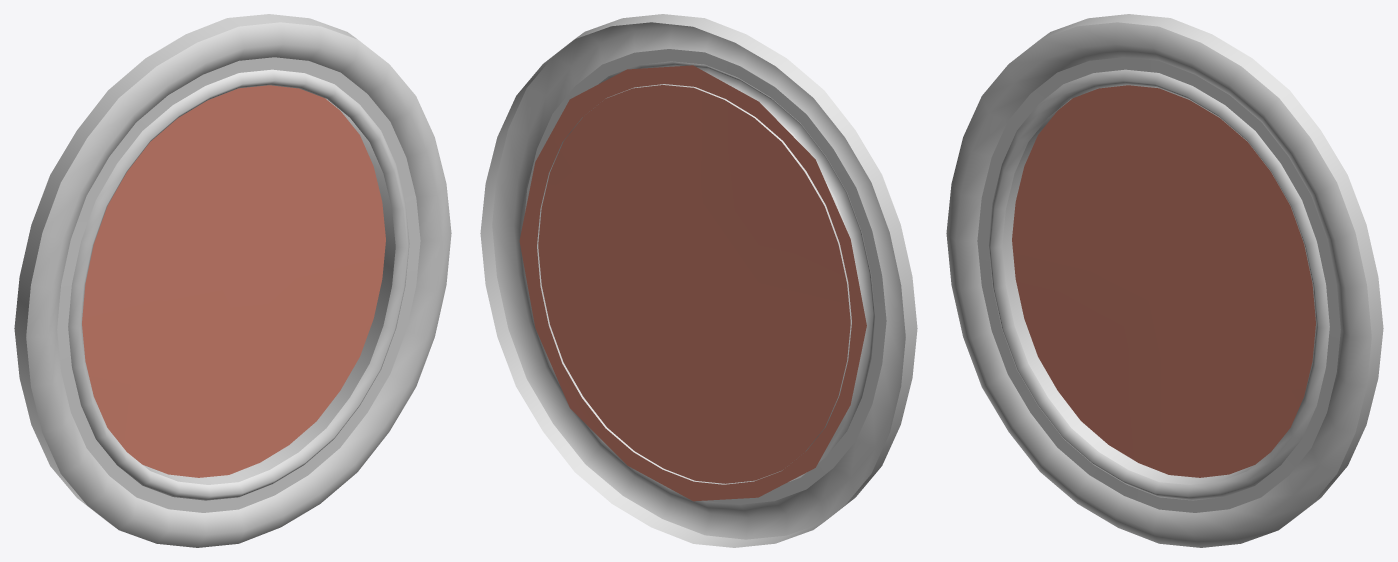
File: SM_Props_Decor_14.fbx
3 renders of one model, left to right at view 1: azimuth 30°, elevation 25°; view 2: azimuth 150°, elevation 25°; view 3: azimuth 330°, elevation 25°, orthographic.
Visible parts, largest first — view 1: SM_Props_Decor_14; view 2: SM_Props_Decor_14; view 3: SM_Props_Decor_14.
Part boxes in pixels (x1,y1,x2,y2): SM_Props_Decor_14: (14,14,451,547); SM_Props_Decor_14: (480,14,917,547); SM_Props_Decor_14: (946,14,1383,547).
Size of the model in its own units: 116 by 135 by 8.38.
